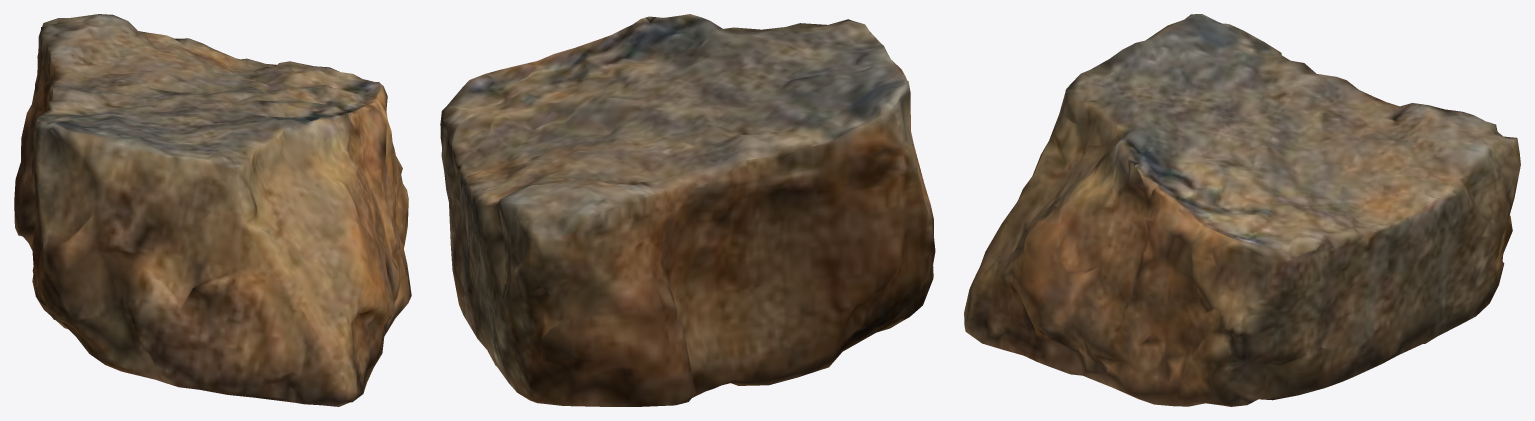
The model's file is natural-boulder-lod1.glb.
The picture shows the model from 3 angles, left to right: view 1: azimuth 30°, elevation 25°; view 2: azimuth 150°, elevation 25°; view 3: azimuth 270°, elevation 25°; orthographic projection. The views are drawn at different scales.
Visible parts, largest first — view 1: boulder_03_LOD0; view 2: boulder_03_LOD0; view 3: boulder_03_LOD0.
Boxes of the visible parts, x1=… form: boulder_03_LOD0: x1=14, y1=14, x2=411, y2=406; boulder_03_LOD0: x1=440, y1=14, x2=935, y2=406; boulder_03_LOD0: x1=964, y1=14, x2=1520, y2=406.
Bounding box in the file's own units: 2.4 × 1.47 × 3.06.
Materials: 1 (1 with a texture image).
